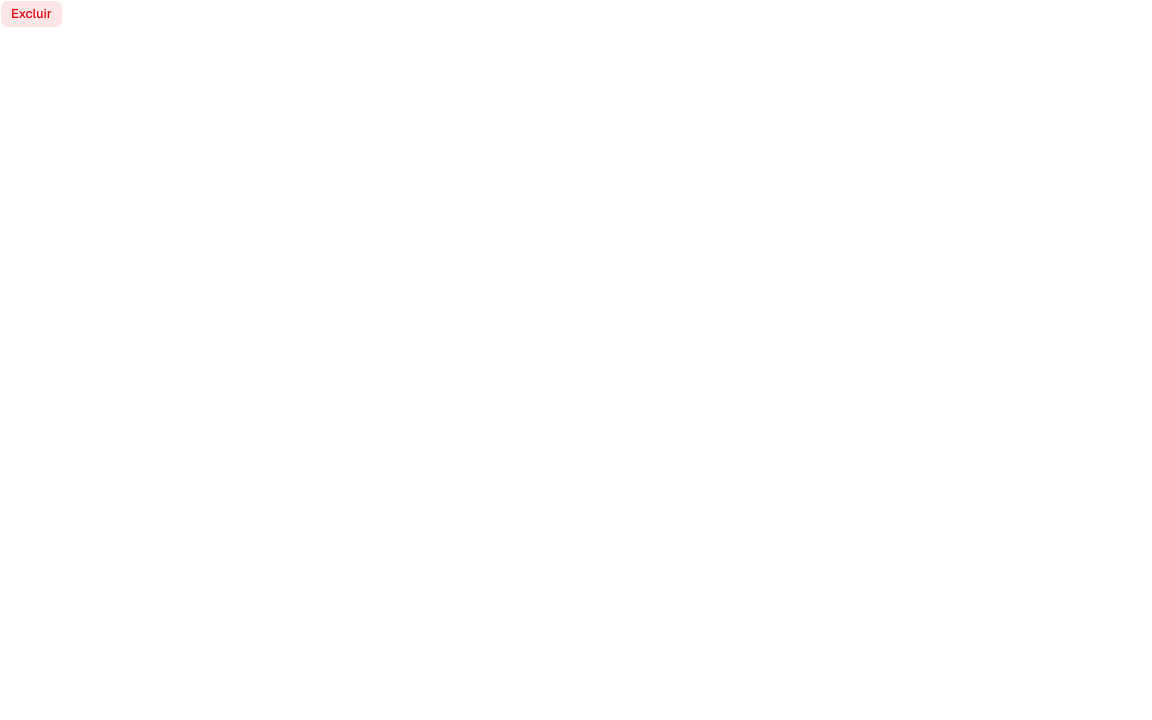
it: ExcluirTarefaDialog › Cancelar fecha sem chamar onConfirmar
The width and height of the screenshot is (1152, 720).
Click the button with aria-label "Excluir Pagar contas" at (31,14), box [0, 0, 63, 28]
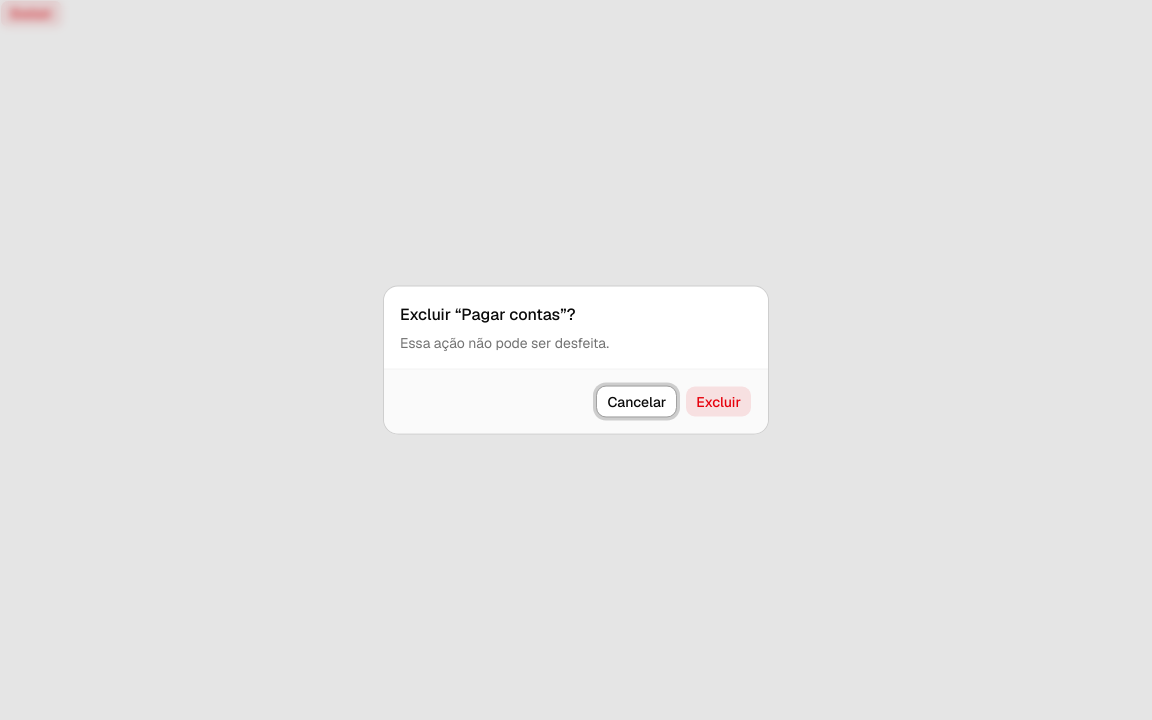
Click the button "Cancelar" at (637,402), box [596, 386, 677, 418]
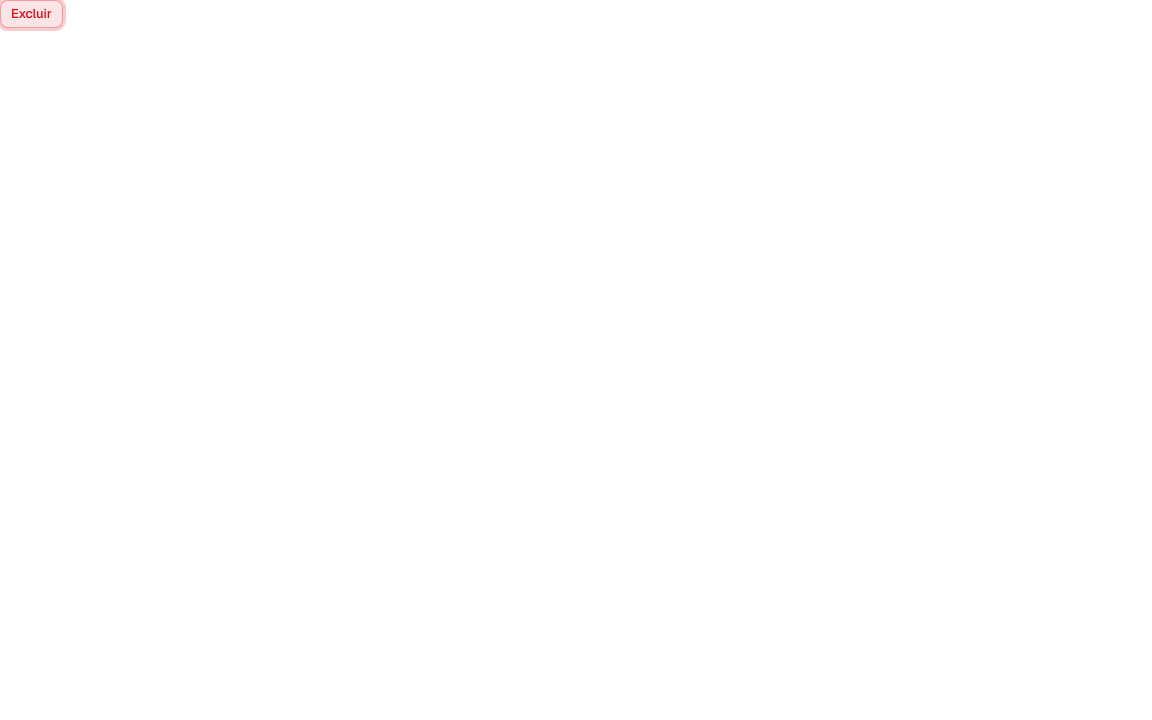
Result: the dialog is gone
